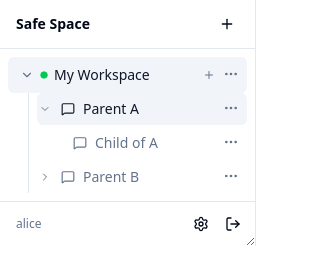
Test: Sidebar — auto-expand/collapse setting › auto-collapses previous parent subtree when navigating to a sibling (setting on)
Expected: the text "Child of A" is shown, [95, 133, 158, 152]
# Click parent-b to navigate away from parent-a's subtree.
Click the button "Parent B" at (136, 177), box [53, 161, 219, 193]
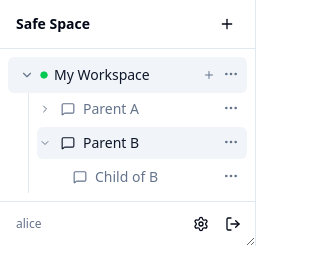
Result: the text "Child of B" is shown at [95, 167, 158, 186]
Result: the button "Child of A" is gone
